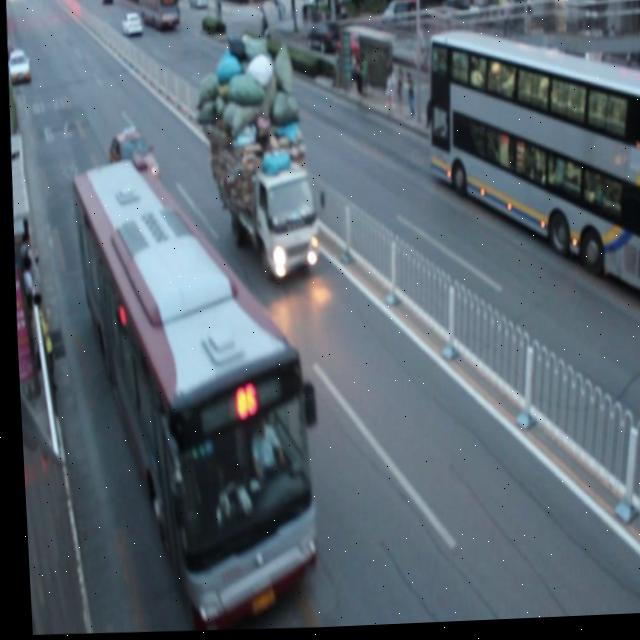bus: (205, 33, 317, 284)
car: (105, 125, 160, 194)
van: (63, 153, 314, 629), (421, 30, 640, 303)
